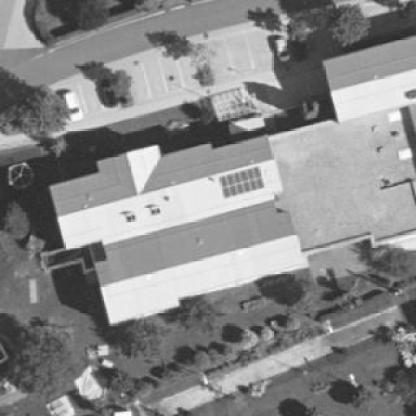solar-pv-panel: (218, 166, 265, 200)
